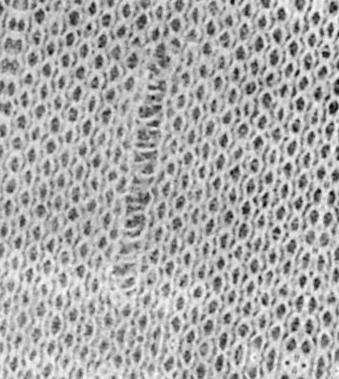slub: (121, 55, 171, 292)
